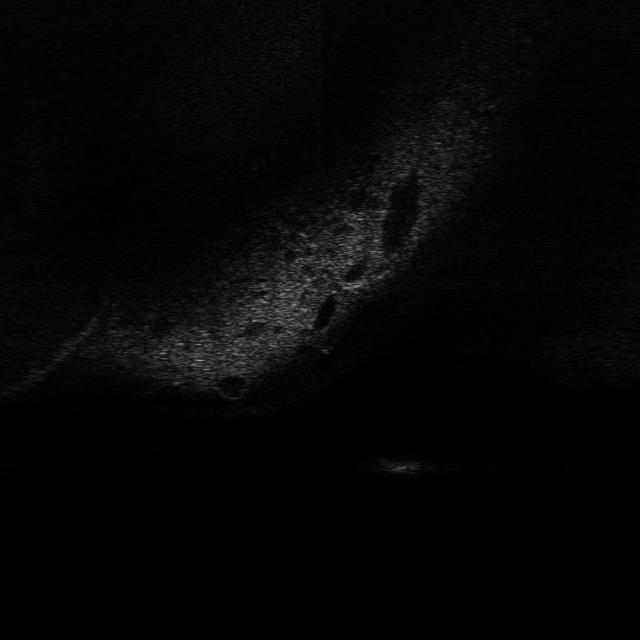ball: (310, 328, 340, 354)
cube: (374, 449, 434, 479)
